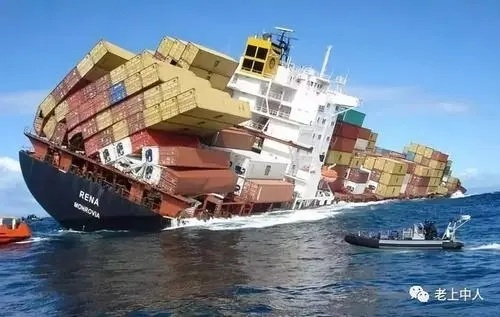Cargoship: (6, 21, 467, 229)
otherboat: (345, 210, 469, 252)
